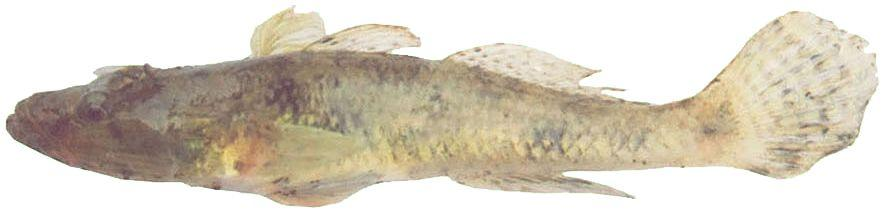Goby: (6, 0, 882, 212)
